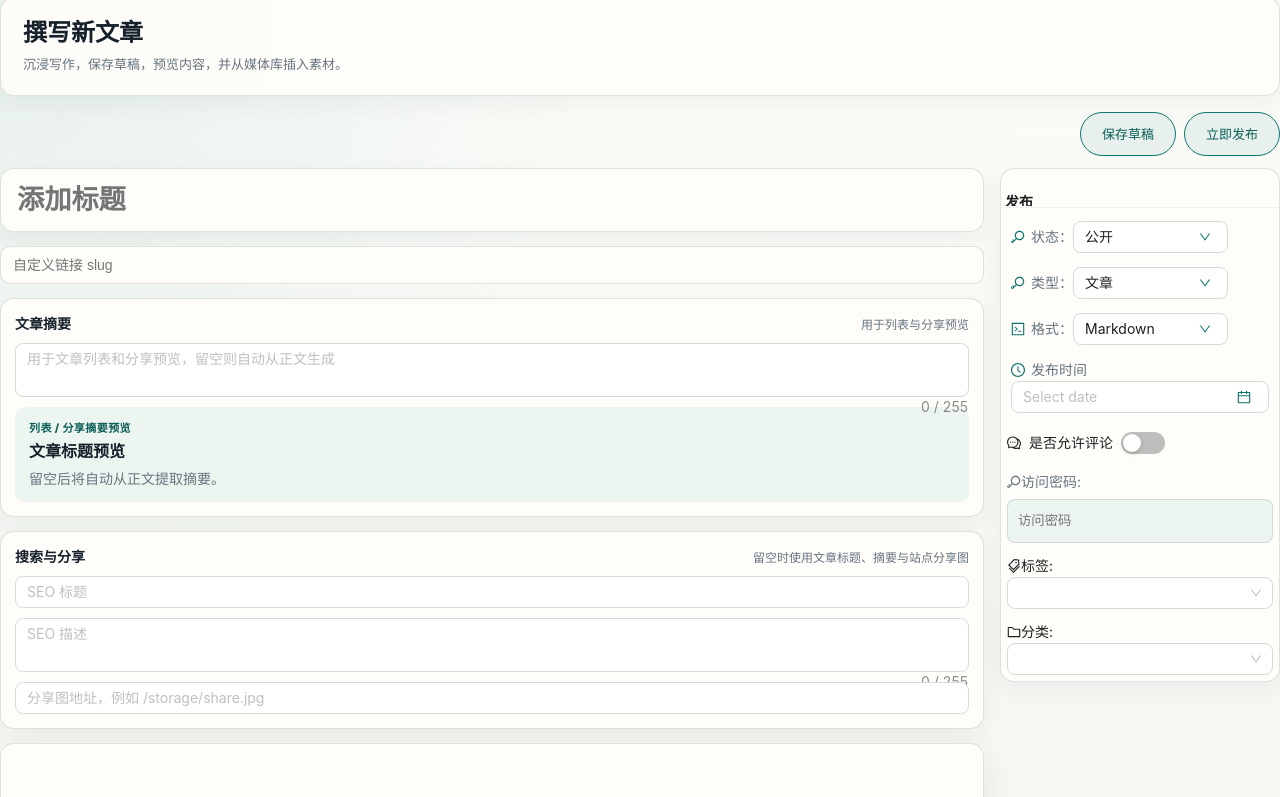
ArticleWrite › marks metadata edits as unsaved changes
Type "Unsaved title" into the field with placeholder "添加标题" at (492, 200), box [0, 168, 984, 232]
(page scrolled)
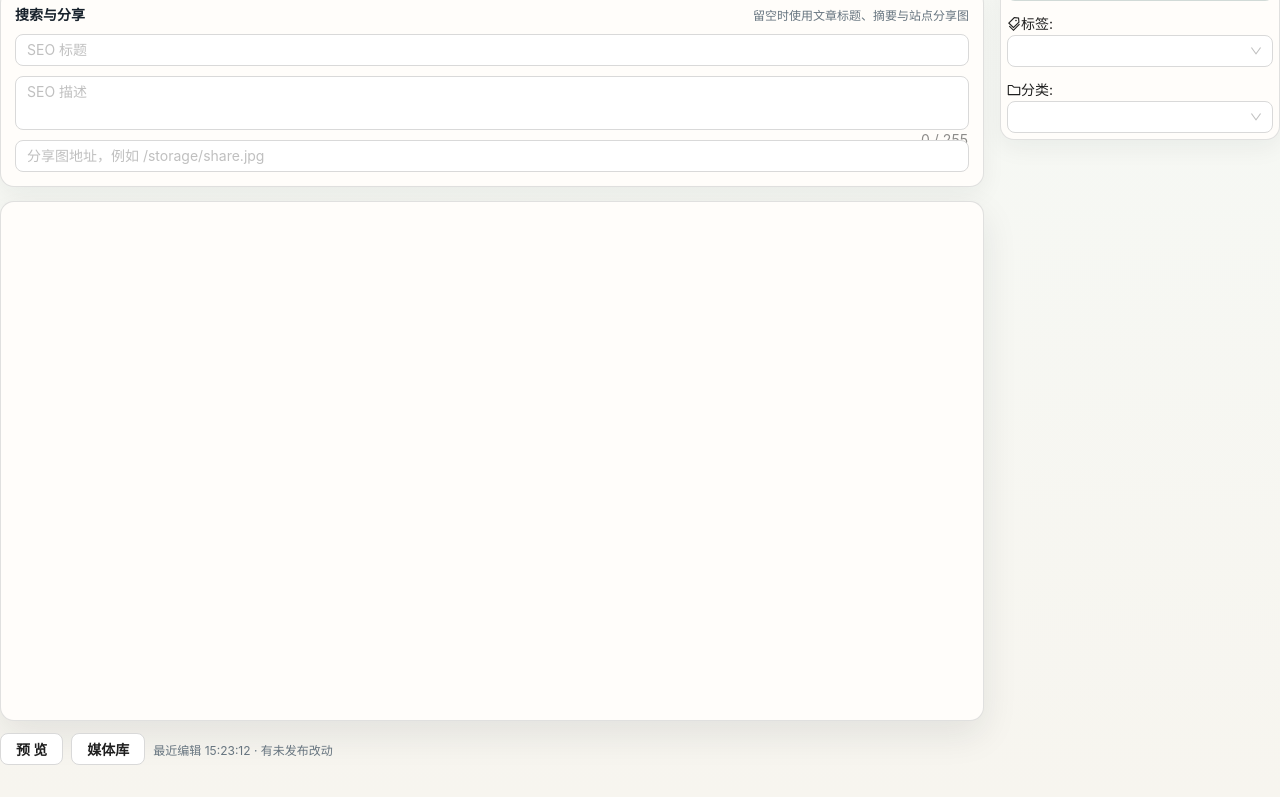
Check: the text "最近编辑 15:23:12 · 有未发布改动" is shown, box [153, 743, 333, 758]
